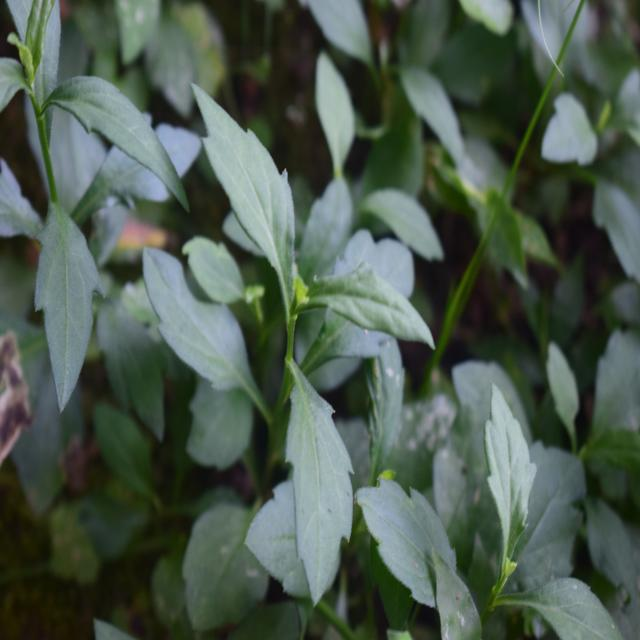Indian aster: (158, 86, 428, 554), (0, 0, 183, 376)
